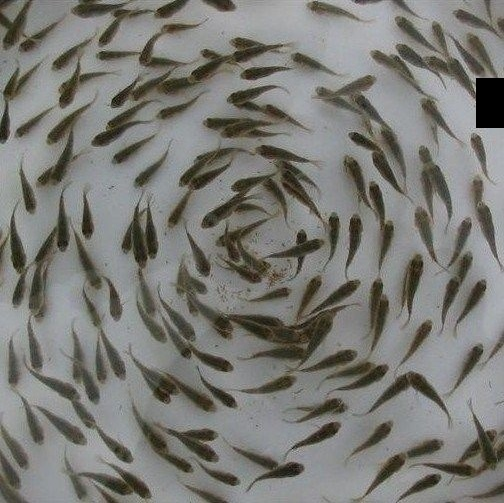fry: (407, 365, 451, 407), (295, 416, 345, 452), (108, 132, 155, 169), (367, 449, 407, 492), (131, 414, 172, 455), (128, 150, 167, 190), (13, 158, 38, 220), (403, 249, 426, 316), (356, 416, 394, 456), (471, 201, 503, 248), (253, 140, 313, 165), (73, 190, 103, 240), (418, 92, 451, 137), (50, 197, 73, 257), (182, 230, 212, 276), (24, 317, 48, 374), (373, 371, 406, 412), (47, 142, 76, 188), (75, 249, 106, 292), (203, 307, 240, 343), (103, 332, 130, 381), (183, 58, 230, 86), (191, 142, 243, 167), (303, 1, 359, 24), (314, 77, 347, 116), (198, 344, 237, 377), (466, 416, 499, 455), (34, 375, 82, 401), (375, 215, 402, 261), (400, 469, 446, 496), (66, 327, 87, 386), (369, 45, 404, 80), (60, 460, 89, 502), (353, 86, 385, 124), (97, 433, 136, 464), (308, 308, 337, 349), (411, 203, 438, 247), (263, 102, 305, 130), (7, 227, 31, 275), (250, 371, 298, 395), (433, 167, 459, 211), (43, 43, 81, 73), (103, 278, 128, 323), (28, 267, 50, 318), (457, 342, 485, 382), (124, 468, 159, 500), (144, 364, 181, 394), (366, 174, 389, 222), (468, 275, 497, 313), (56, 71, 84, 110), (221, 83, 273, 104), (439, 274, 463, 319), (22, 404, 47, 447), (341, 151, 367, 192), (278, 237, 324, 260), (475, 428, 499, 472), (28, 231, 55, 270), (408, 429, 447, 456), (4, 435, 34, 470), (253, 283, 296, 307), (431, 460, 480, 481), (132, 216, 150, 273), (302, 392, 343, 417), (287, 50, 331, 73), (322, 205, 345, 249), (86, 467, 126, 492), (54, 421, 91, 448), (85, 127, 130, 149), (92, 337, 110, 392), (3, 337, 22, 389), (315, 346, 359, 368), (347, 211, 367, 259), (154, 70, 187, 99), (423, 17, 452, 50), (380, 123, 408, 157), (80, 289, 105, 327), (452, 211, 475, 252), (12, 112, 48, 138), (170, 312, 201, 342), (40, 117, 72, 146), (394, 36, 427, 64), (182, 420, 222, 443), (276, 459, 316, 482), (212, 383, 246, 410), (3, 274, 27, 312), (243, 445, 278, 471), (97, 107, 133, 132), (197, 198, 228, 227), (377, 294, 393, 350), (100, 83, 133, 110), (189, 169, 226, 193), (187, 388, 221, 414), (238, 62, 280, 83), (470, 130, 491, 172), (133, 30, 158, 65), (248, 248, 277, 278), (276, 167, 303, 199), (206, 464, 242, 488), (1, 19, 22, 60), (225, 170, 266, 191), (445, 55, 471, 88), (162, 196, 188, 229), (262, 345, 307, 364), (187, 484, 232, 503), (329, 276, 363, 301), (140, 379, 169, 408), (221, 120, 263, 140), (156, 99, 192, 122), (452, 5, 488, 28), (266, 178, 289, 214), (87, 46, 138, 62), (369, 270, 386, 318), (137, 280, 159, 317), (185, 438, 220, 461), (359, 362, 391, 387), (1, 459, 25, 492), (292, 165, 326, 188), (143, 317, 169, 347), (484, 335, 504, 374), (15, 63, 40, 94), (412, 320, 434, 355), (97, 17, 121, 49), (66, 2, 108, 20), (174, 163, 202, 190), (244, 322, 275, 346), (166, 453, 197, 477), (416, 174, 436, 211), (144, 220, 162, 261), (394, 17, 422, 43), (72, 402, 100, 428), (151, 2, 184, 24), (16, 33, 50, 54), (1, 68, 22, 102), (29, 161, 52, 192), (171, 333, 194, 364), (347, 128, 375, 153), (234, 266, 262, 291), (203, 1, 244, 18), (472, 481, 504, 502), (343, 74, 380, 92), (465, 52, 487, 82), (113, 5, 156, 20), (131, 77, 154, 105), (301, 271, 324, 299), (225, 49, 265, 65), (169, 271, 189, 302), (421, 51, 443, 79), (194, 114, 230, 131), (1, 102, 14, 149), (213, 227, 243, 247), (467, 29, 490, 55), (459, 249, 477, 282), (119, 217, 133, 258), (194, 44, 224, 63), (468, 174, 488, 202), (91, 485, 122, 503), (160, 19, 197, 34), (228, 31, 257, 50), (278, 327, 308, 345), (151, 54, 183, 70), (343, 362, 375, 378), (237, 199, 267, 216), (189, 273, 212, 295), (333, 399, 353, 422), (413, 143, 434, 163), (182, 298, 202, 317), (395, 2, 419, 17), (292, 225, 309, 245), (52, 75, 69, 94), (227, 246, 240, 263)
